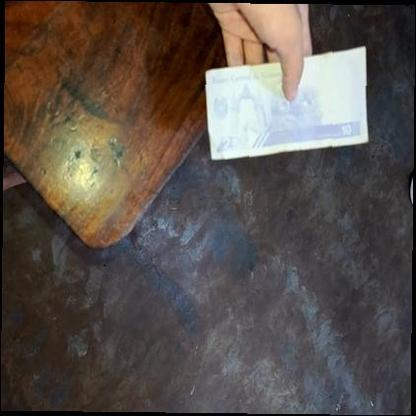ten-back-vef: (203, 49, 372, 159)
